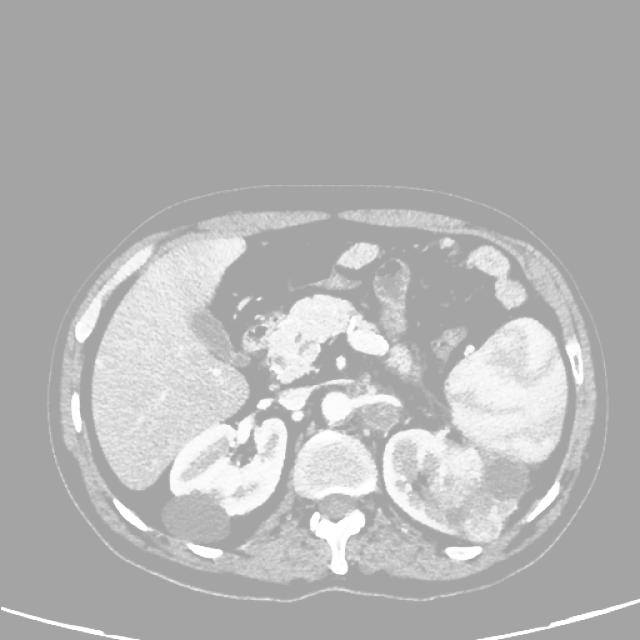TUMOR: (139, 216, 540, 528)
